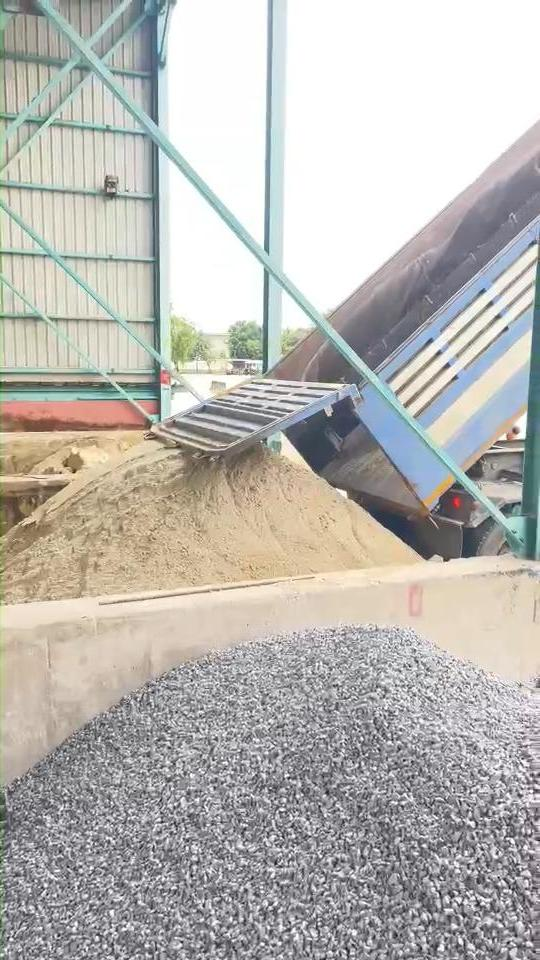gravel: (3, 627, 536, 959)
sand: (4, 442, 420, 601), (23, 436, 118, 479)
